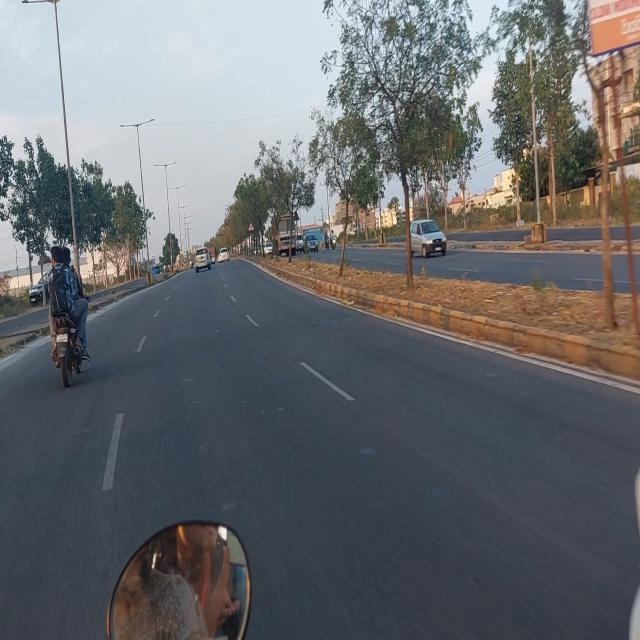bien_nguy_hiem: (248, 220, 254, 231)
